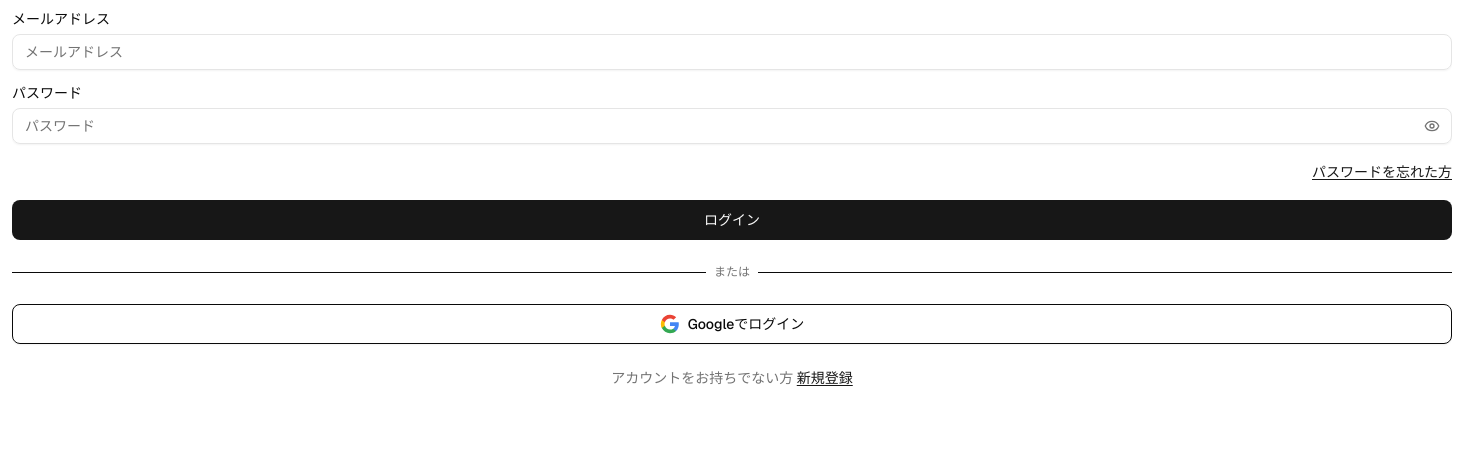
Test case: LoginForm › バリデーション › 空のフォーム送信時にエラーメッセージが表示される
Click the button "ログイン". click: (732, 220)
box: [12,200,1452,240]
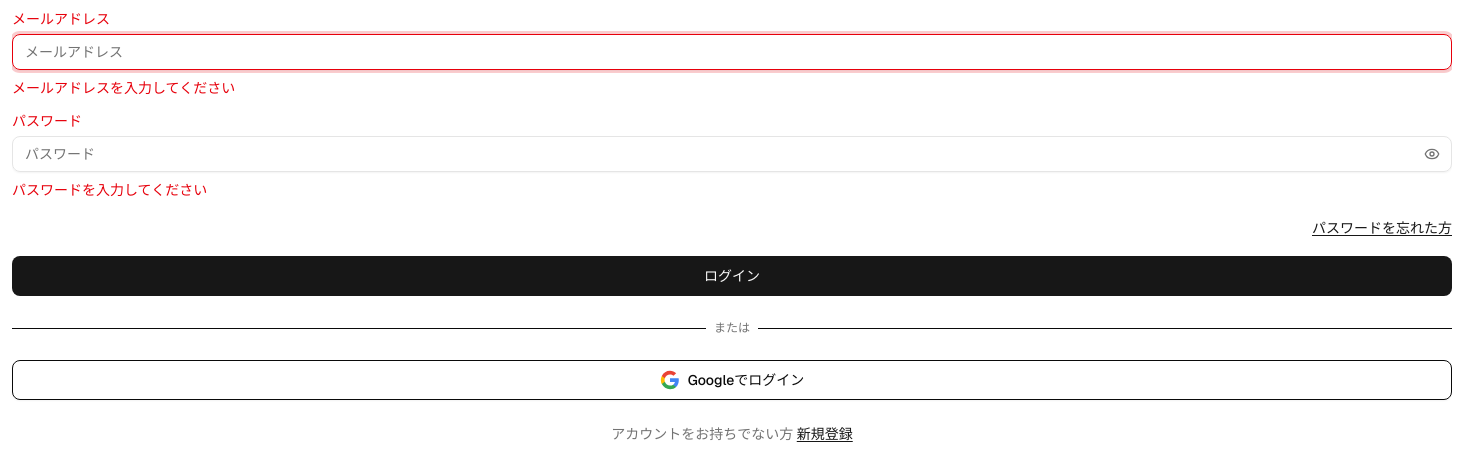
Check: the text "メールアドレスを入力してください" is shown, box [12,79,235,97]
